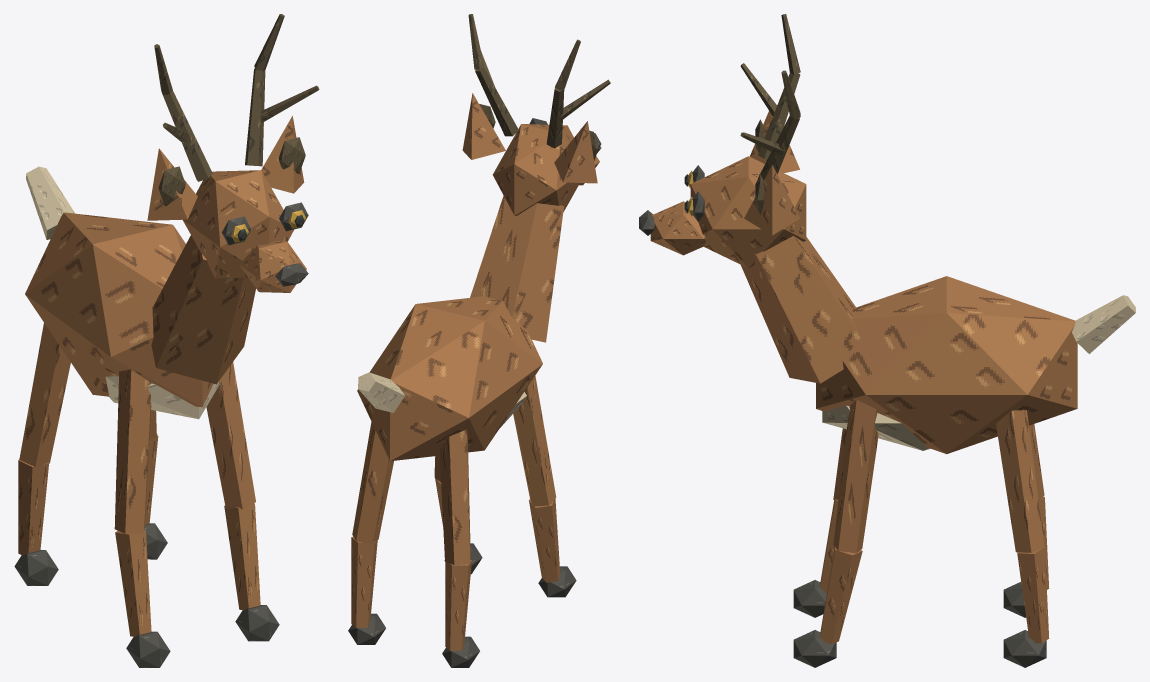
The model's file is animal-veado-v01.gltf.
The picture shows the model from 3 angles, left to right: view 1: azimuth 30°, elevation 25°; view 2: azimuth 150°, elevation 25°; view 3: azimuth 270°, elevation 25°; orthographic projection. The views are drawn at different scales.
Parts seen in each view (by area): view 1: corpo, cabeca, perna-frente-esquerda, perna-frente-direita, perna-tras-esquerda, cauda, perna-tras-direita; view 2: corpo, cabeca, perna-tras-esquerda, perna-frente-esquerda, perna-tras-direita, cauda, perna-frente-direita; view 3: corpo, cabeca, perna-frente-direita, perna-tras-direita, perna-frente-esquerda, cauda, perna-tras-esquerda.
Part boxes in pixels (<box>): corpo: <box>25,212,255,419</box>; cabeca: <box>147,14,319,292</box>; perna-frente-esquerda: <box>114,369,170,667</box>; perna-frente-direita: <box>206,362,279,641</box>; perna-tras-esquerda: <box>14,323,70,585</box>; cauda: <box>26,166,74,239</box>; perna-tras-direita: <box>144,410,167,559</box>; corpo: <box>357,196,563,461</box>; cabeca: <box>462,14,610,215</box>; perna-tras-esquerda: <box>439,429,479,667</box>; perna-frente-esquerda: <box>513,376,576,597</box>; perna-tras-direita: <box>348,422,393,644</box>; cauda: <box>358,372,404,412</box>; perna-frente-direita: <box>434,455,482,574</box>; corpo: <box>741,236,1077,454</box>; cabeca: <box>639,14,806,268</box>; perna-frente-direita: <box>793,399,878,667</box>; perna-tras-direita: <box>996,410,1049,667</box>; perna-frente-esquerda: <box>793,428,846,617</box>; cauda: <box>1072,295,1135,353</box>; perna-tras-esquerda: <box>1003,424,1049,617</box>.
Size of the model in its own units: 0.5752 by 2.22 by 1.68.
1 material, 1 textured.
